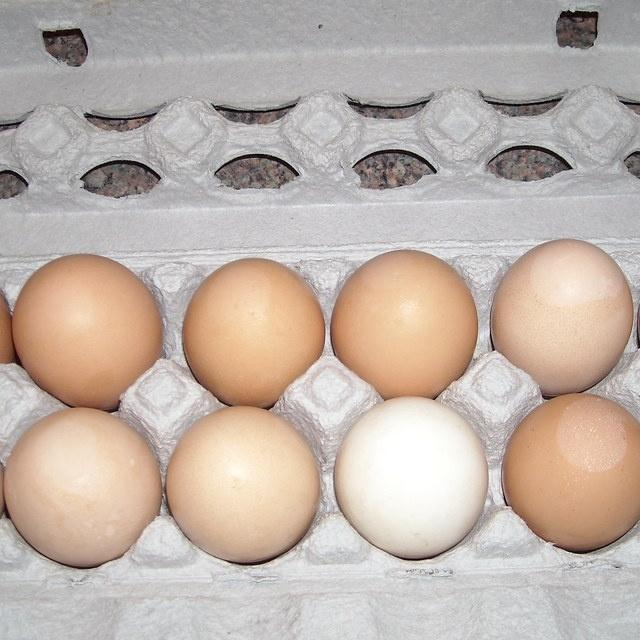egg: (333, 395, 489, 559), (3, 407, 161, 568), (165, 405, 320, 564), (11, 252, 163, 410), (489, 238, 633, 396), (330, 248, 478, 399), (501, 392, 640, 552), (181, 257, 325, 407)
